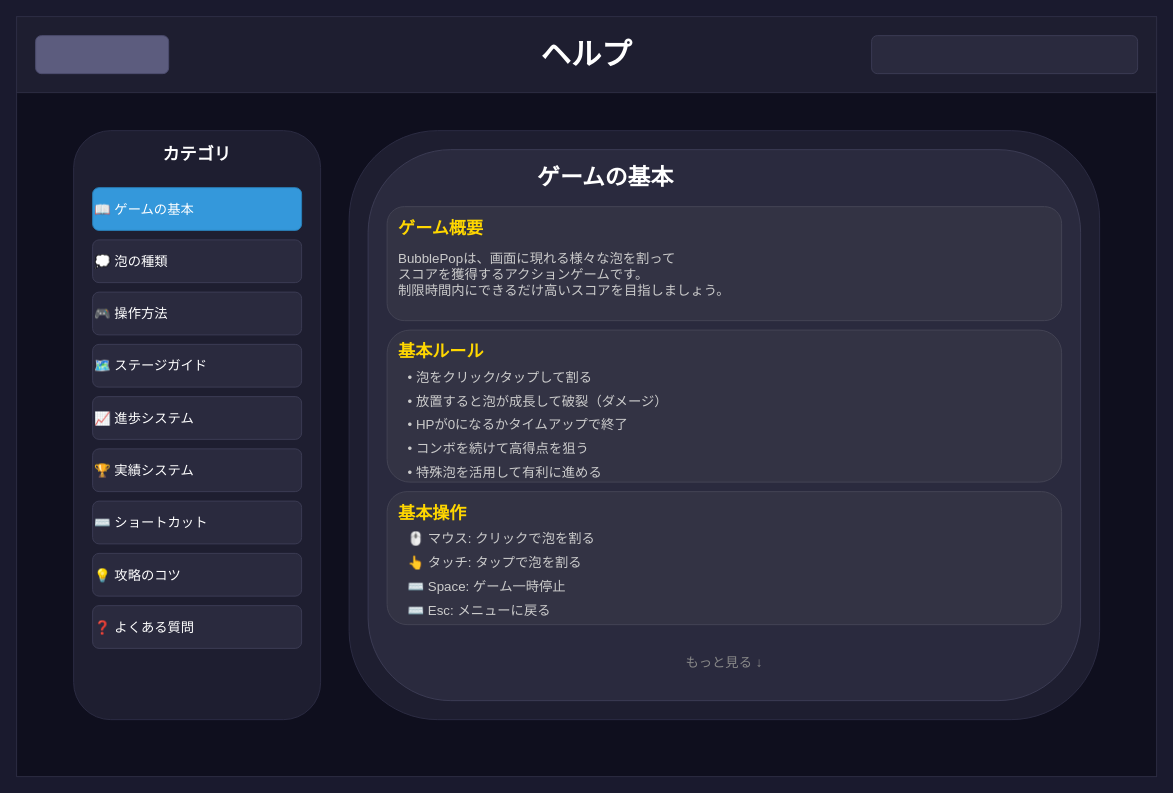
This 1173x793 diagram has some shape labels left out. Each missing label, with the centre of its shape:
"← メニューに戻る" belongs at point 102,54.
"🔍 ヘルプを検索..." belongs at point 1004,54.
